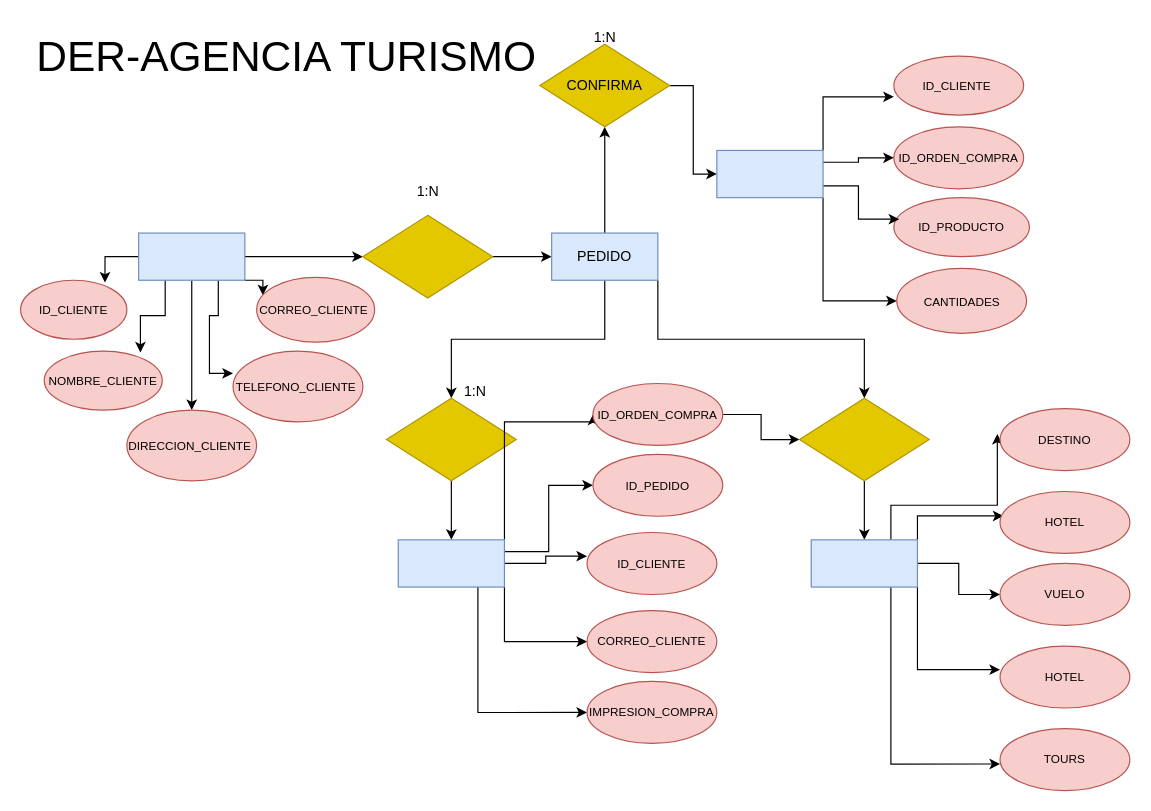
Some shapes in this 1151 by 811 pixel diagram are drawn without their labels. Each missing label, with the centre of its shape:
"CLIENTE" belongs at point 191,256.
"COMPRA REALIZADA" belongs at point 769,173.
"DETALLE COMPRA" belongs at point 863,439.
"ENGREGA" belongs at point 450,439.
"ENVIO" belongs at point 450,563.
"PRODUCTO" belongs at point 863,563.
"REALIZA" belongs at point 427,256.
